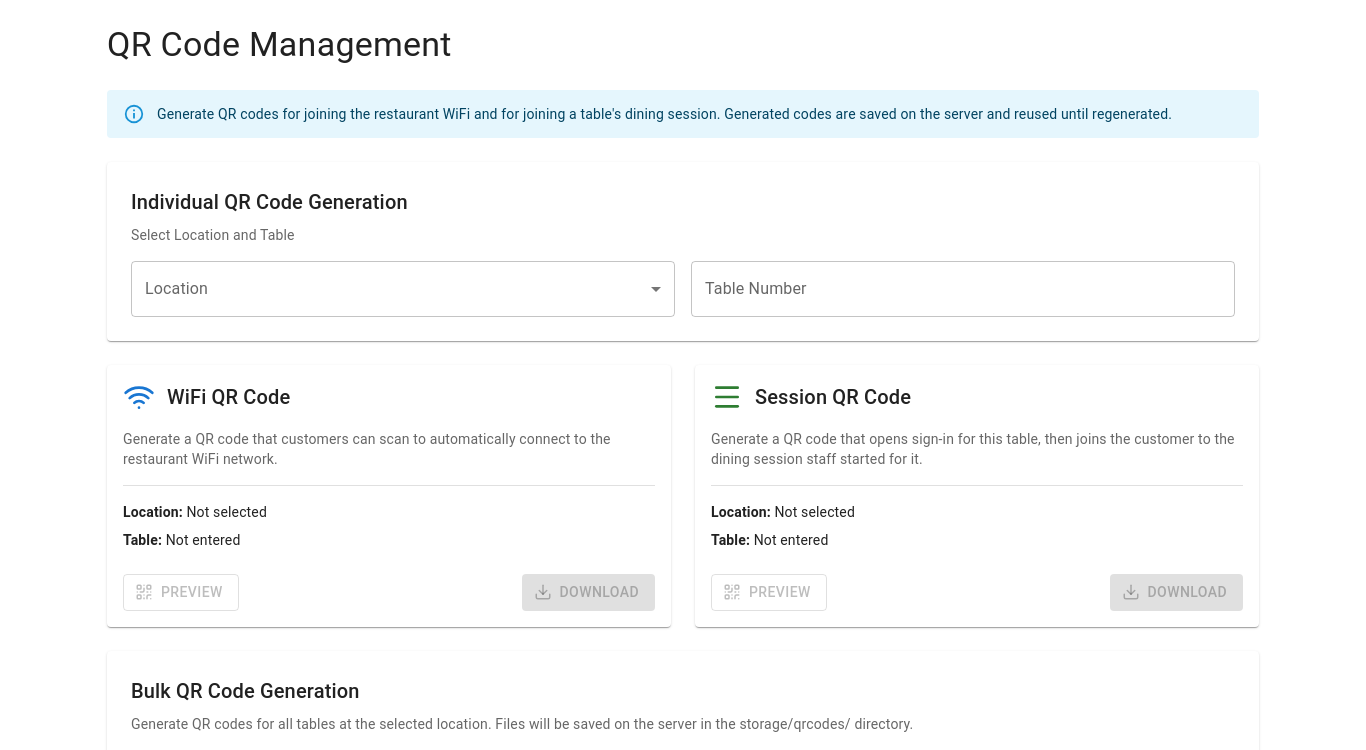
Test: QRCodeManagement Component › shows the API error text from a blob error response
This screenshot has width=1366, height=750.
In the number field labelled "Table Number": (963, 289) left=691, top=261, right=1235, bottom=317, type "5"
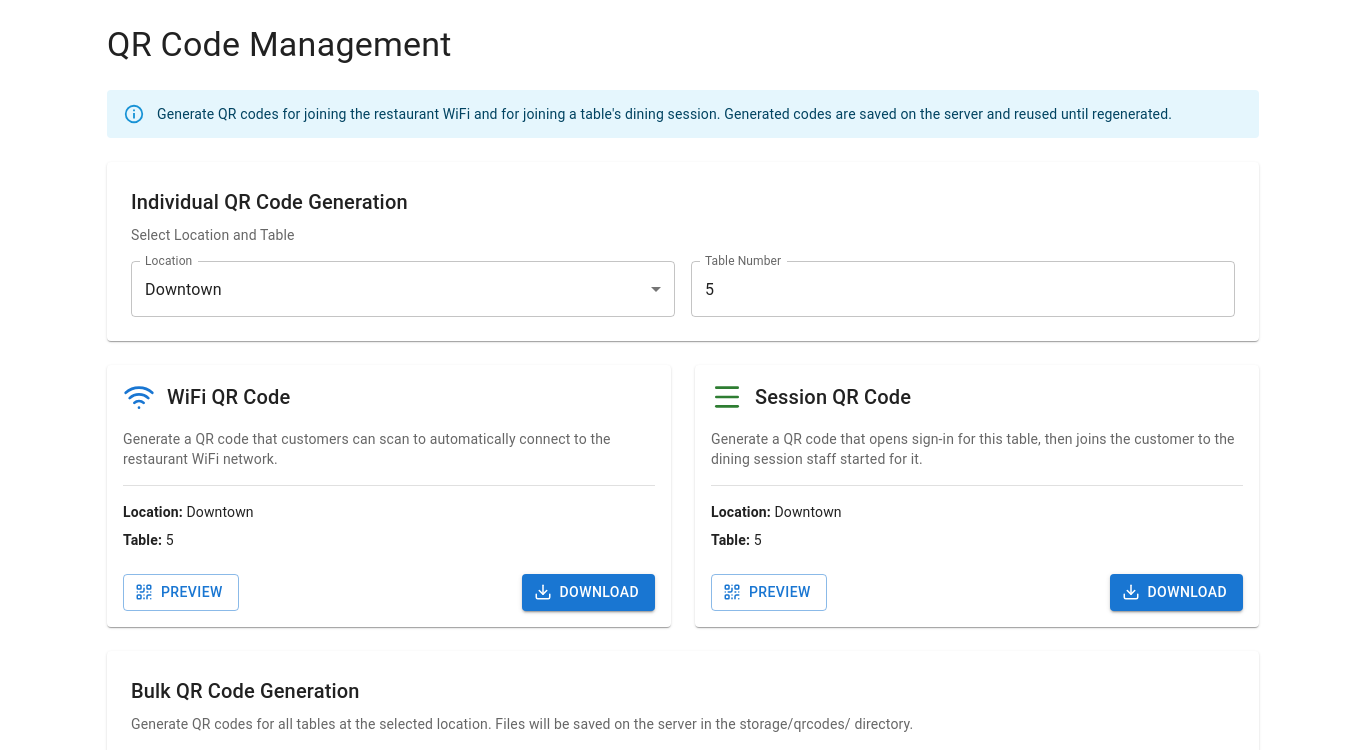
Now the button "Preview" below "WiFi QR Code" is enabled
Click the button "Preview" below "WiFi QR Code": (181, 592) left=123, top=574, right=239, bottom=611
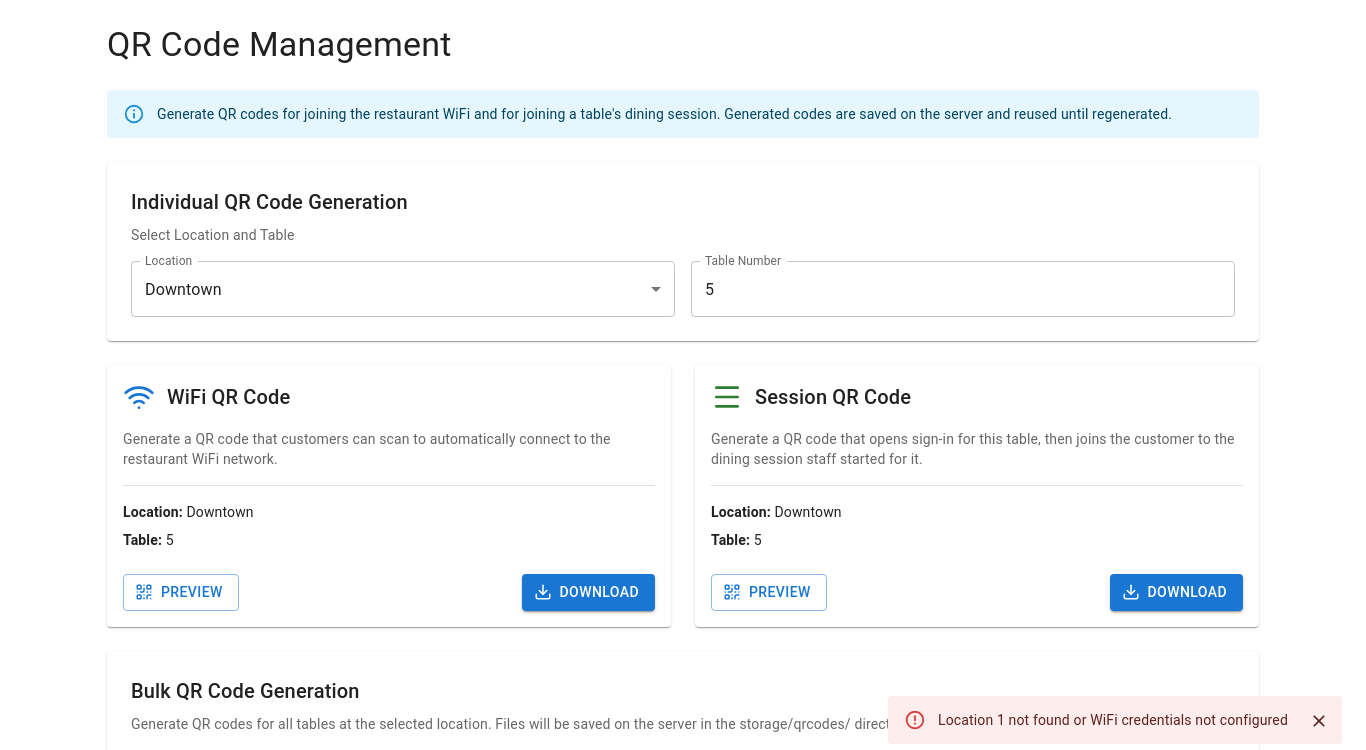
Now the text "Location 1 not found or WiFi credentials not configured" is shown, box left=938, top=712, right=1288, bottom=728
